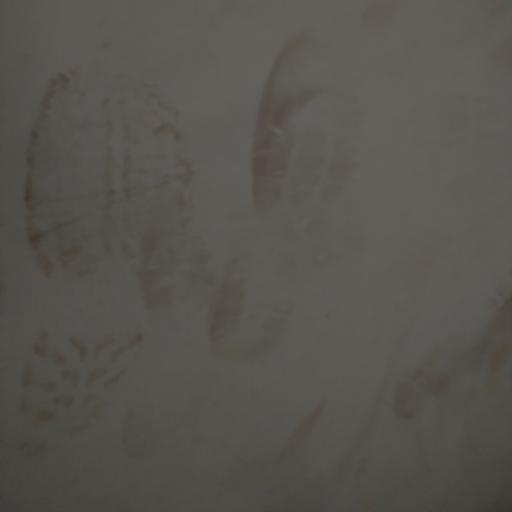stain: (13, 18, 512, 491)
